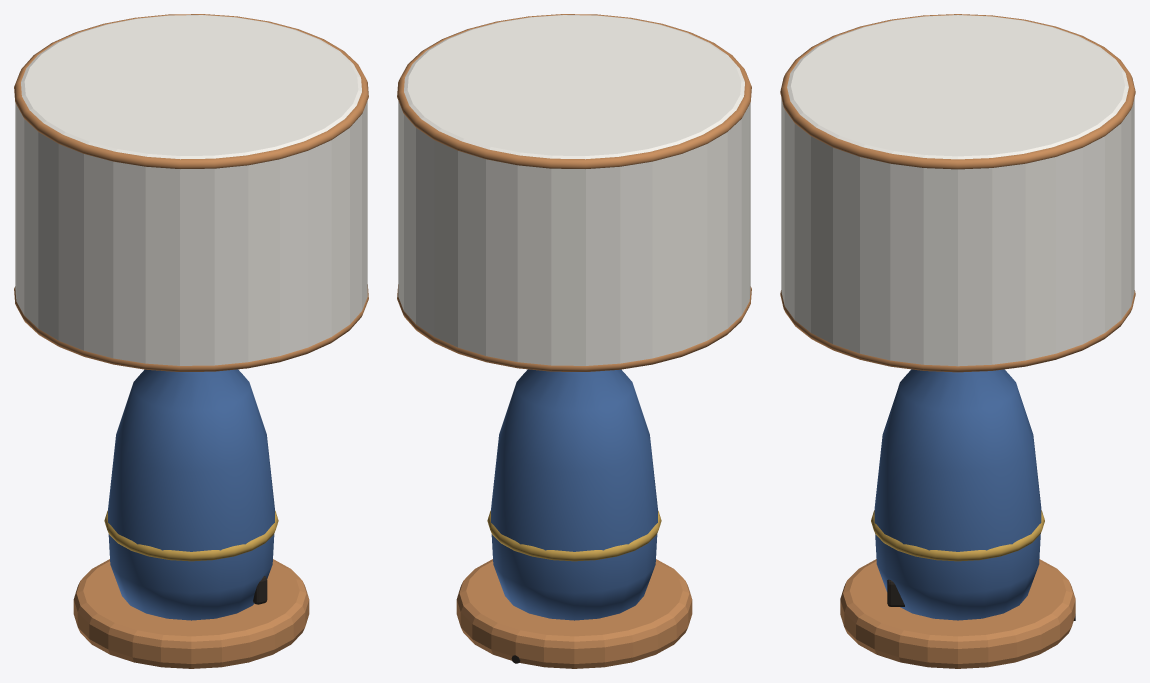
Rendered from hh_cat_table_lamp.glb.
3 renders of one model, left to right at view 1: azimuth 30°, elevation 25°; view 2: azimuth 150°, elevation 25°; view 3: azimuth 270°, elevation 25°, orthographic.
Visible parts, largest first — view 1: shade, body, foot, shade_trim.001, shade_trim, body_band; view 2: shade, body, foot, shade_trim.001, shade_trim, body_band; view 3: shade, body, foot, shade_trim.001, shade_trim, body_band.
Part boxes in pixels (<box>): shade: <box>15,15,367,365</box>; body: <box>108,369,274,620</box>; foot: <box>73,559,309,668</box>; shade_trim.001: <box>14,14,368,168</box>; shade_trim: <box>14,284,368,371</box>; body_band: <box>104,510,278,561</box>; shade: <box>398,15,750,365</box>; body: <box>491,369,657,620</box>; foot: <box>456,559,692,668</box>; shade_trim.001: <box>397,14,751,168</box>; shade_trim: <box>397,284,751,371</box>; body_band: <box>487,510,661,561</box>; shade: <box>781,15,1134,366</box>; body: <box>874,369,1041,620</box>; foot: <box>840,559,1075,668</box>; shade_trim.001: <box>780,14,1135,169</box>; shade_trim: <box>780,290,1135,372</box>; body_band: <box>871,510,1044,561</box>.
Size of the model in its own units: 0.3 by 0.5 by 0.3.
